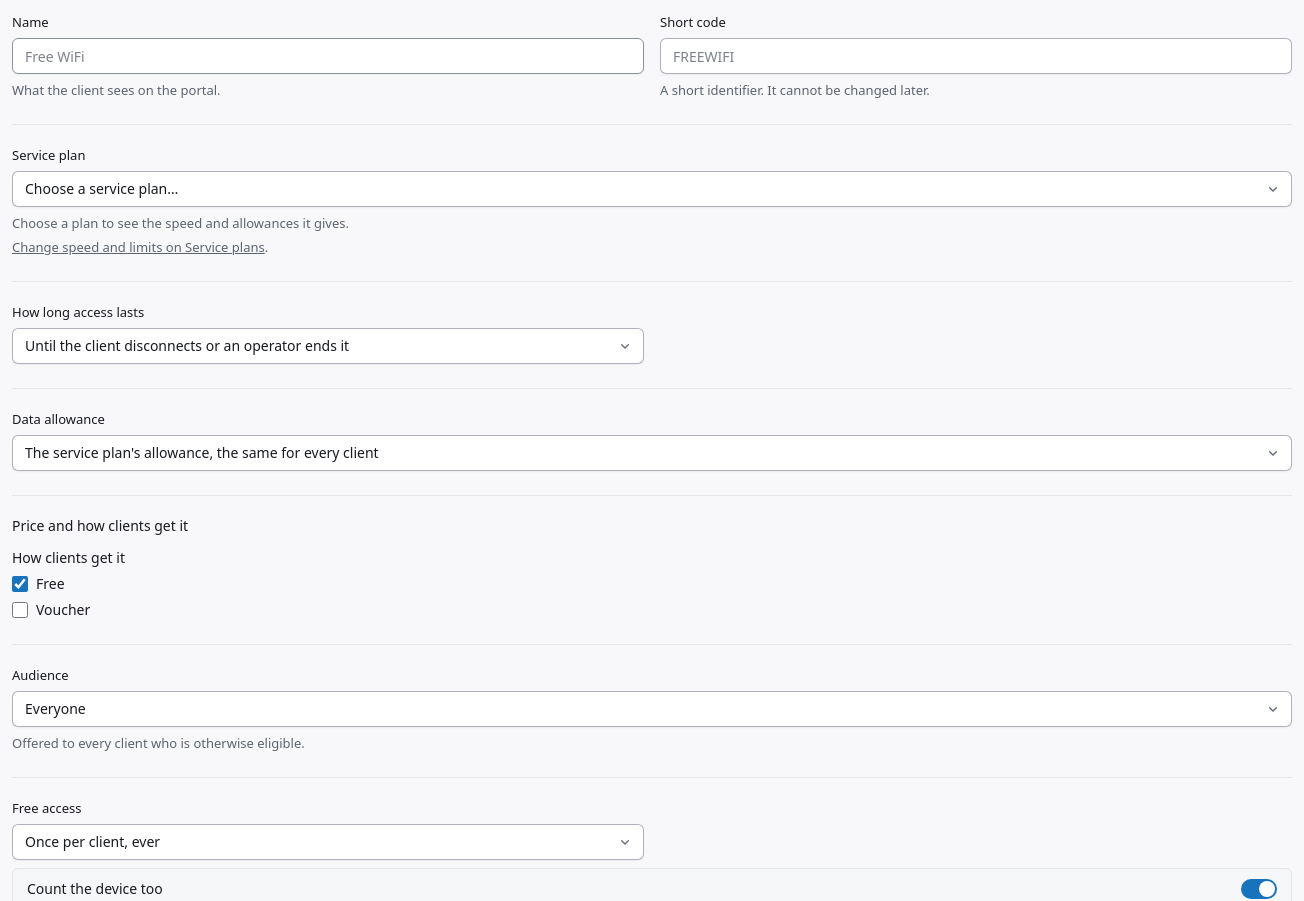
Test: the data-allowance precedence notice › says nothing at all until there is something true to say
The width and height of the screenshot is (1304, 901).
Select "Five GB" in the dropdown with test id "service-plan". click: {"x": 652, "y": 189}
box: [12,171,1292,207]
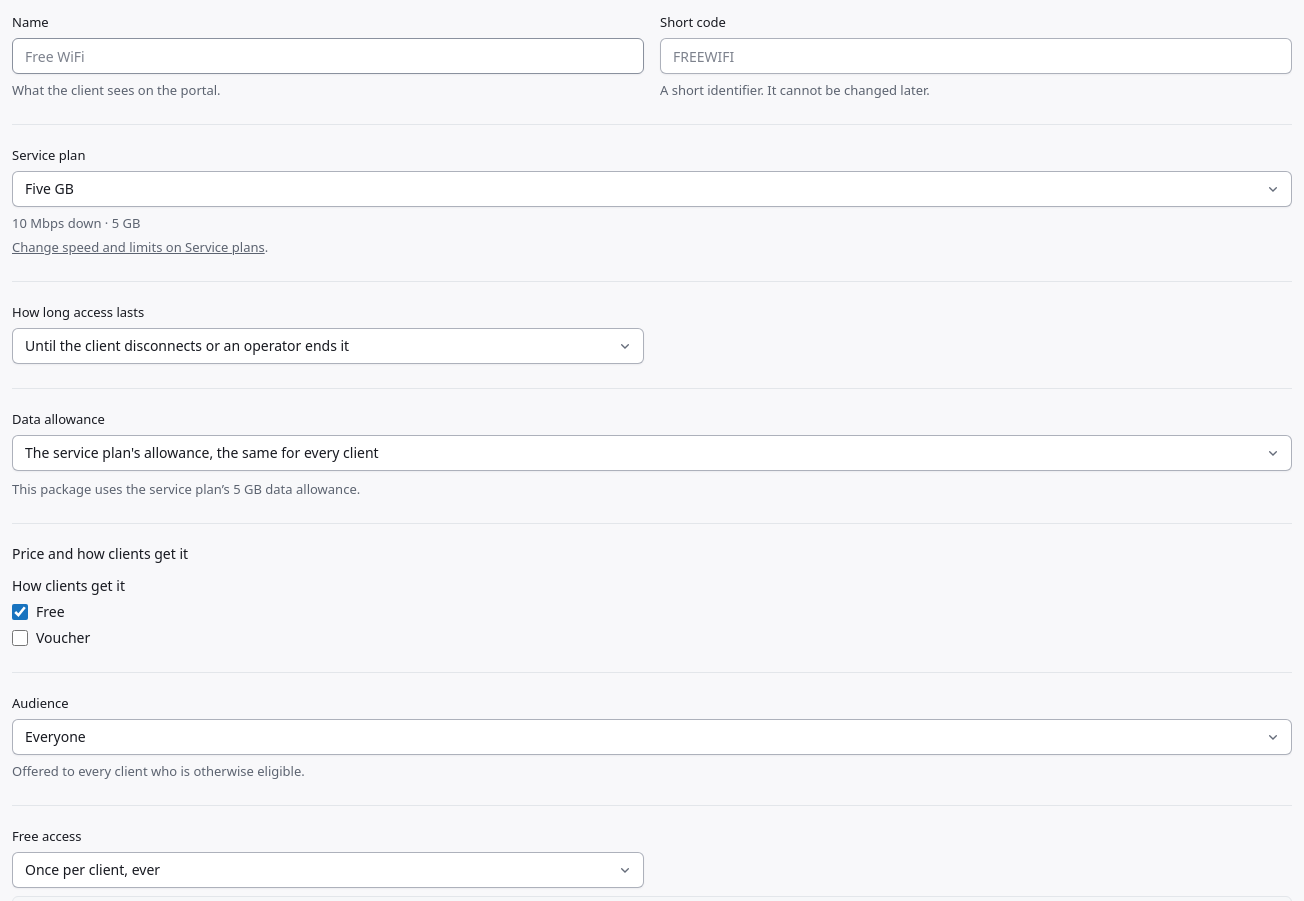
Select "An allowance per night of the stay" in the dropdown with test id "allocation-mode". click: {"x": 652, "y": 453}
box: [12,435,1292,471]
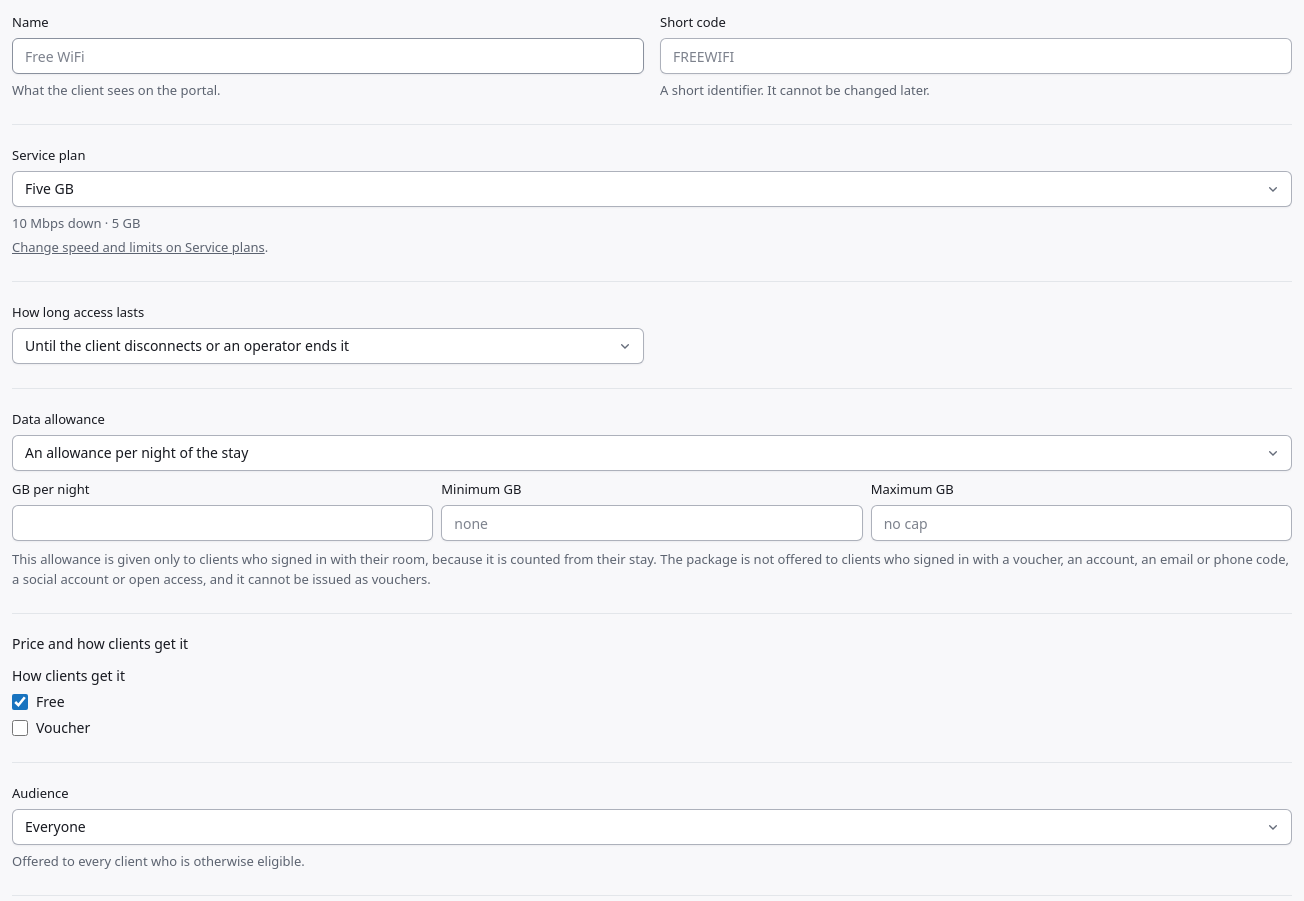
Check: the element with test id "allowance-notice" is gone
